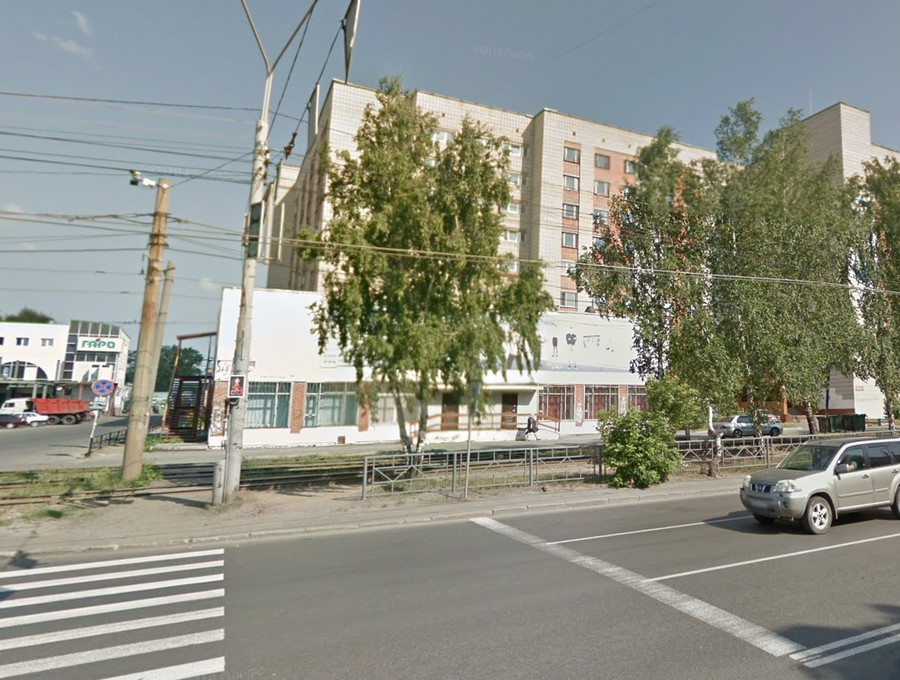Traffic Light-red: (227, 372, 248, 403)
